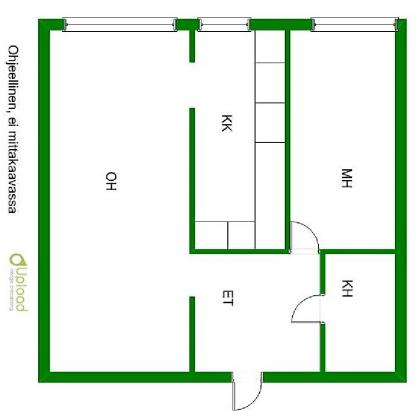door: (51, 30, 319, 372), (290, 29, 397, 248), (326, 254, 394, 371)
window: (232, 370, 264, 413), (289, 292, 326, 328), (289, 222, 318, 256)
zone: (65, 16, 174, 30), (314, 18, 394, 30), (199, 17, 249, 30)
